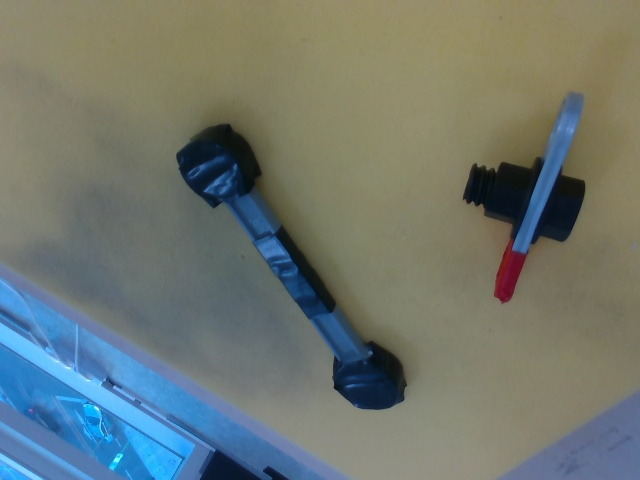part_1_good: (454, 87, 593, 306)
